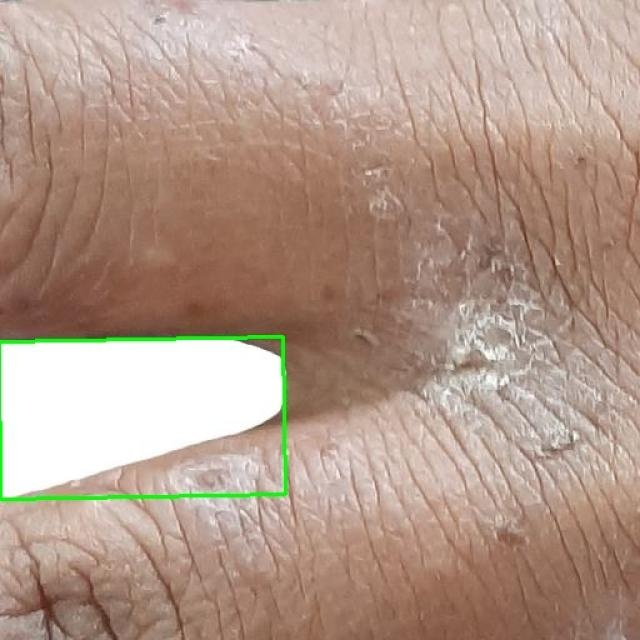Scabies: (0, 337, 286, 499)
